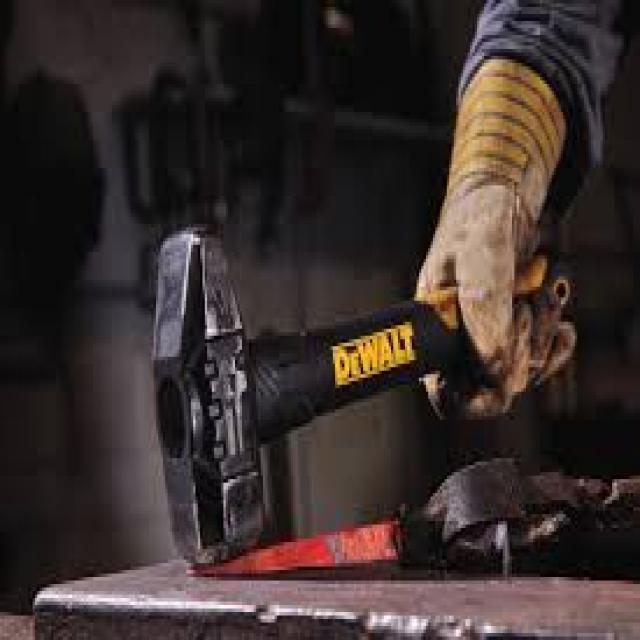hammer: (144, 207, 584, 580)
